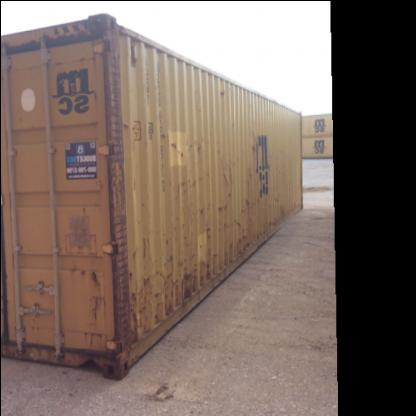Damage: (155, 226, 217, 317), (116, 266, 153, 344), (64, 262, 106, 321), (216, 231, 260, 269), (155, 120, 188, 162), (173, 167, 210, 191), (74, 327, 109, 351), (213, 188, 236, 216), (274, 186, 292, 216), (219, 160, 237, 186), (242, 157, 255, 183), (239, 190, 254, 212), (214, 80, 231, 99), (192, 136, 206, 158), (141, 230, 152, 256), (197, 198, 213, 214), (246, 136, 257, 155), (236, 216, 244, 226)
